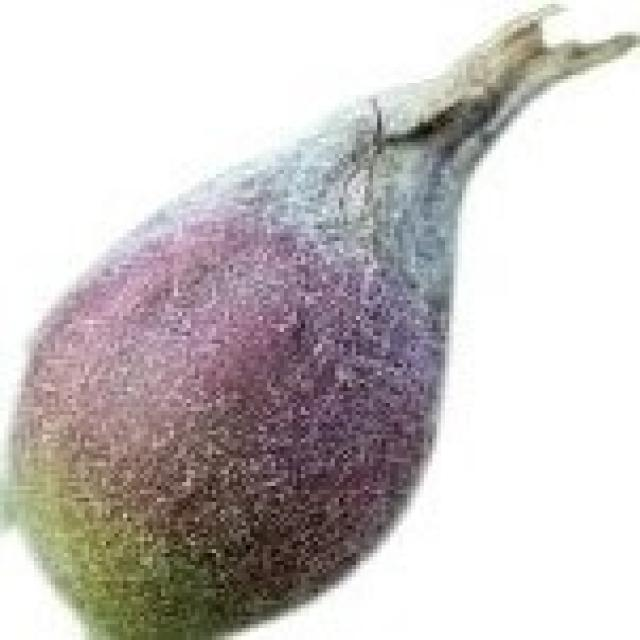20-_ripeness: (15, 11, 611, 640)
